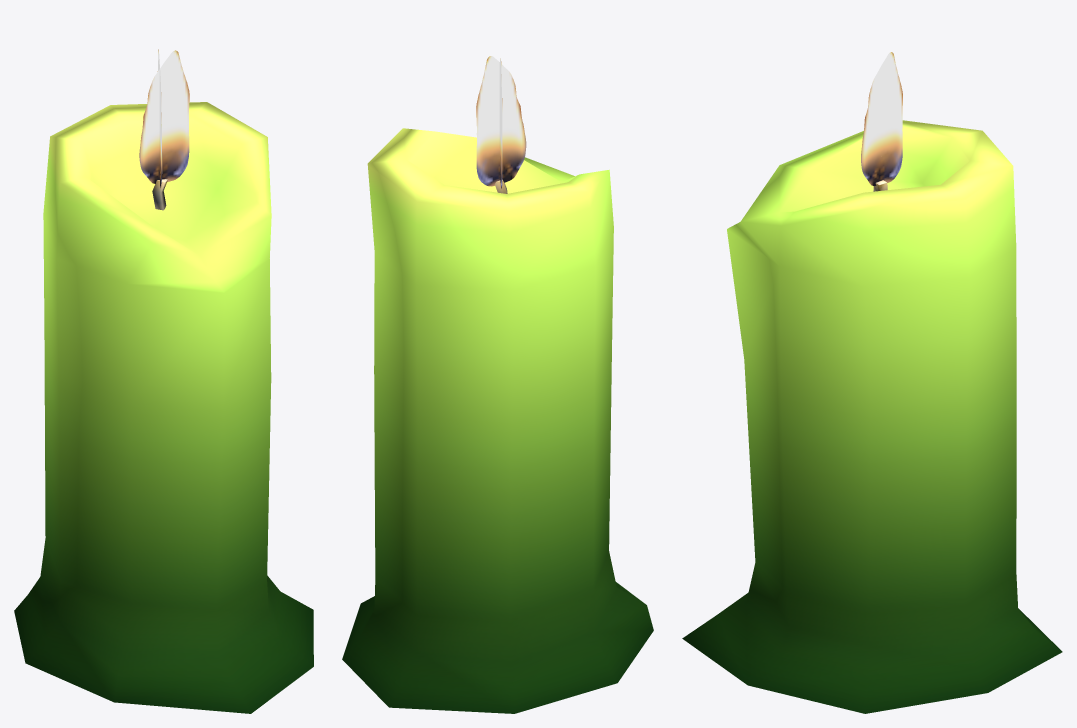
The model's file is CandleShapeB.021.glb.
3 views of the same model, side by side, from view 1: azimuth 30°, elevation 25°; view 2: azimuth 150°, elevation 25°; view 3: azimuth 270°, elevation 25° (orthographic).
Visible parts, largest first — view 1: CandleShapeB.021; view 2: CandleShapeB.021; view 3: CandleShapeB.021.
Part boxes in pixels (x1,y1,x2,y2): CandleShapeB.021: (14,49,313,713); CandleShapeB.021: (342,56,653,713); CandleShapeB.021: (682,52,1062,713).
Size of the model in its own units: 0.0966 by 0.2031 by 0.117.
2 materials, 2 textured.
